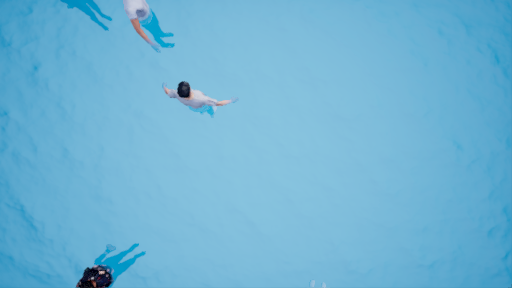person: (73, 239, 154, 288), (119, 2, 181, 60), (156, 76, 238, 117)
